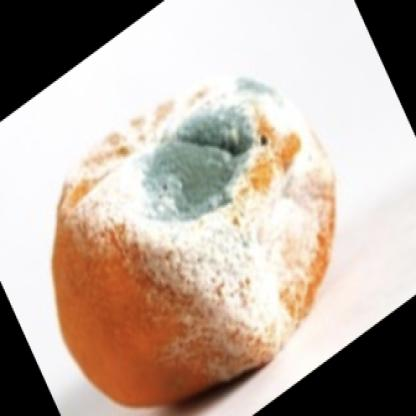rotten: (56, 81, 337, 408)
